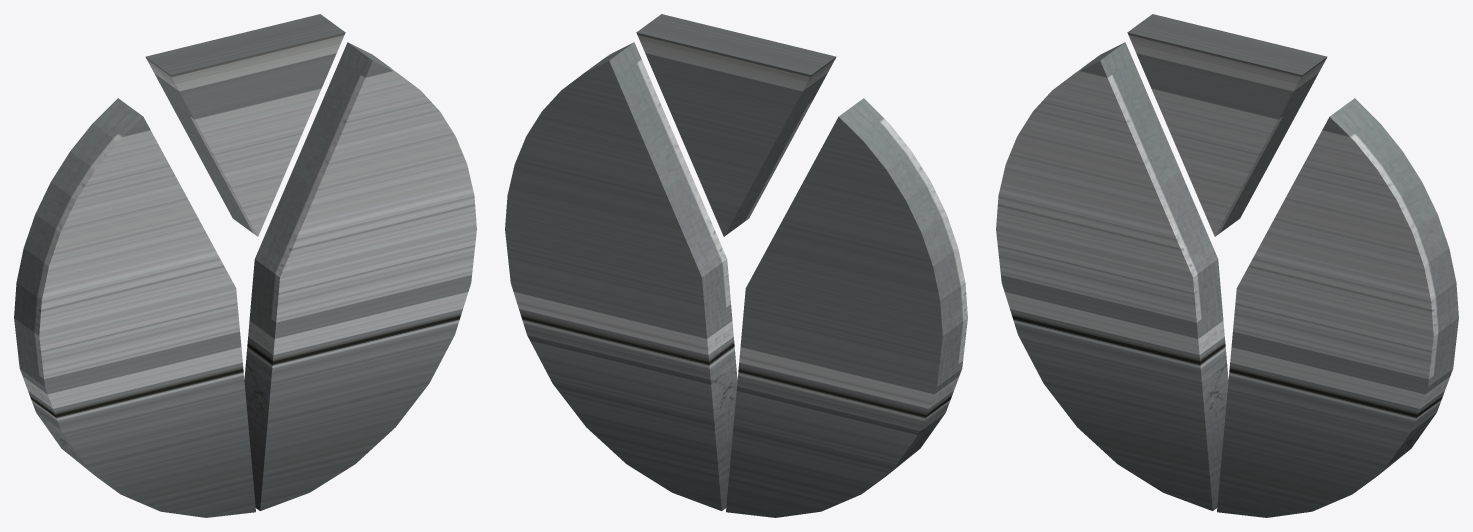
3 renders of one model, left to right at view 1: azimuth 30°, elevation 25°; view 2: azimuth 150°, elevation 25°; view 3: azimuth 330°, elevation 25°, orthographic.
Parts seen in each view (by area): view 1: B_split; view 2: B_split; view 3: B_split.
Part boxes in pixels (x1,y1,x2,y2): B_split: (14,14,476,517); B_split: (505,14,967,517); B_split: (996,14,1458,517).
Size of the model in its own units: 200 by 200 by 20.
1 material, 1 textured.
